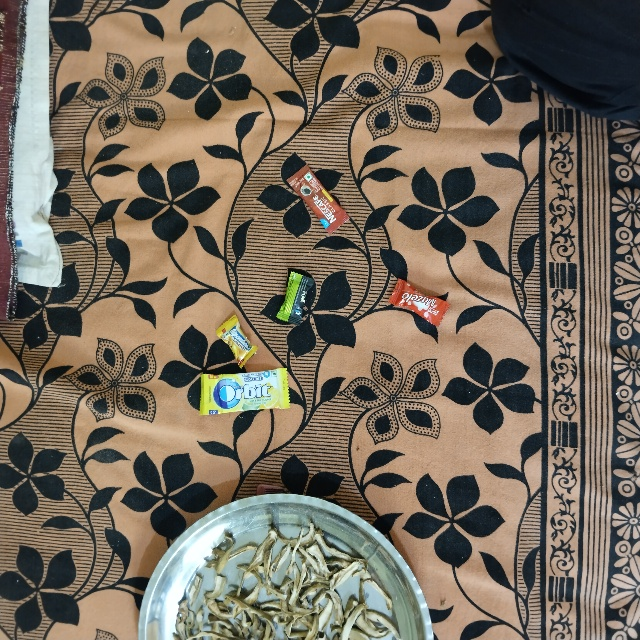Alpenlibe Creamfills: (210, 331, 238, 379)
Mazelo: (392, 273, 462, 304)
Nescafe Coffee: (277, 180, 310, 256)
Orbit: (191, 374, 290, 418)
Pulse: (288, 266, 327, 327)
